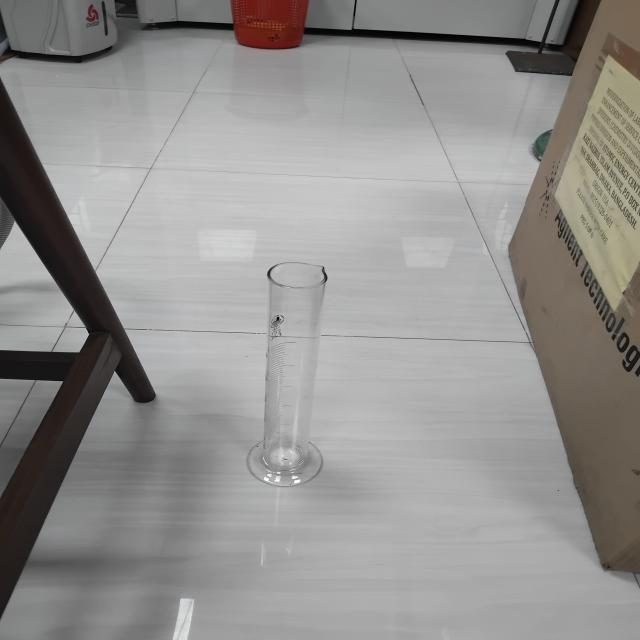Measuring_Cylinder: (200, 213, 362, 516)
